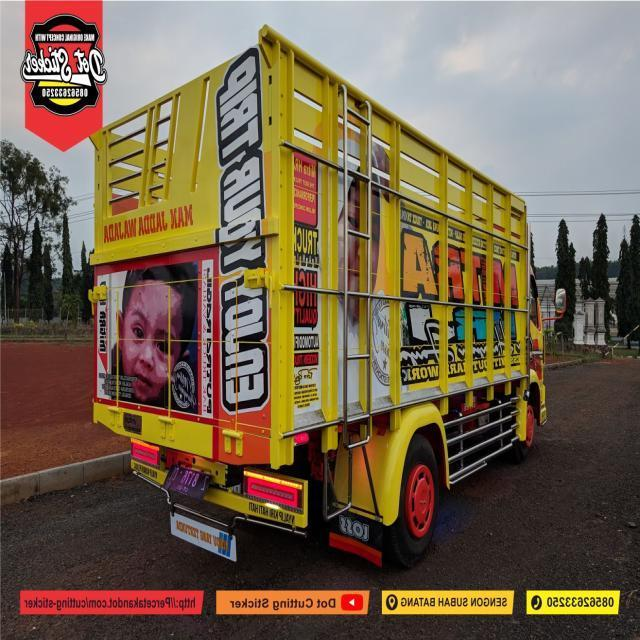truck: (86, 24, 568, 564)
